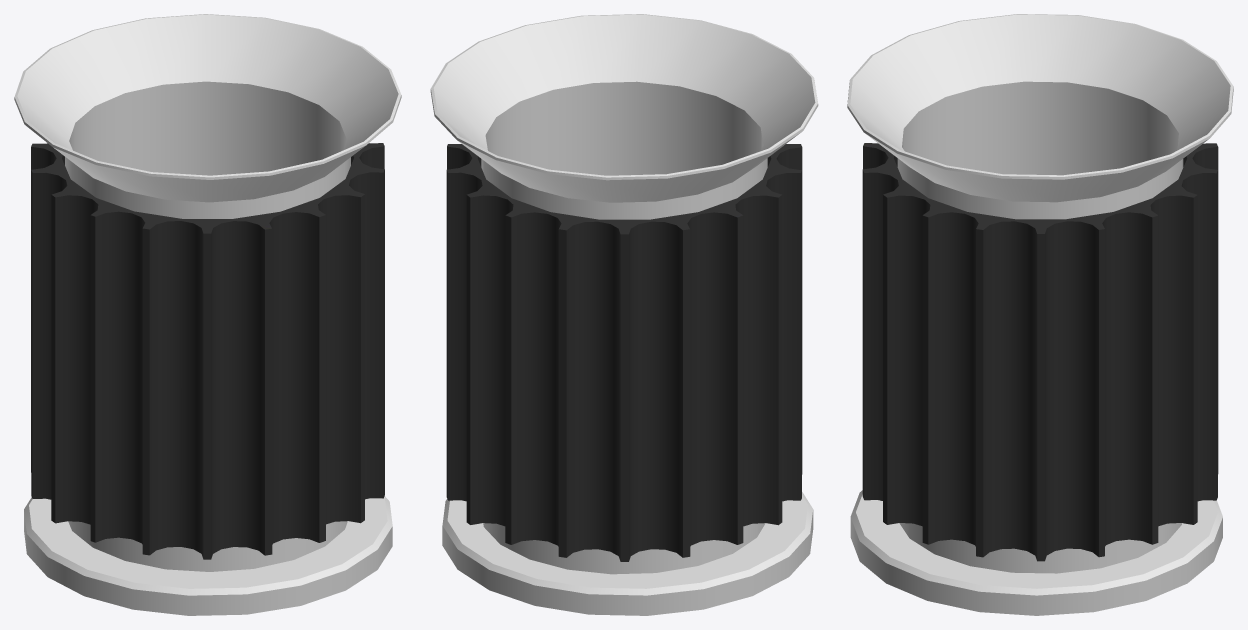
File: lamp02.fbx
The picture shows the model from 3 angles, left to right: view 1: azimuth 30°, elevation 25°; view 2: azimuth 150°, elevation 25°; view 3: azimuth 270°, elevation 25°; orthographic projection.
Visible parts, largest first — view 1: lamp02; view 2: lamp02; view 3: lamp02.
Boxes of the visible parts, x1=… form: lamp02: x1=14, y1=14, x2=401, y2=615; lamp02: x1=430, y1=14, x2=818, y2=615; lamp02: x1=847, y1=14, x2=1233, y2=615.
Size of the model in its own units: 0.3149 by 0.3981 by 0.3149.
